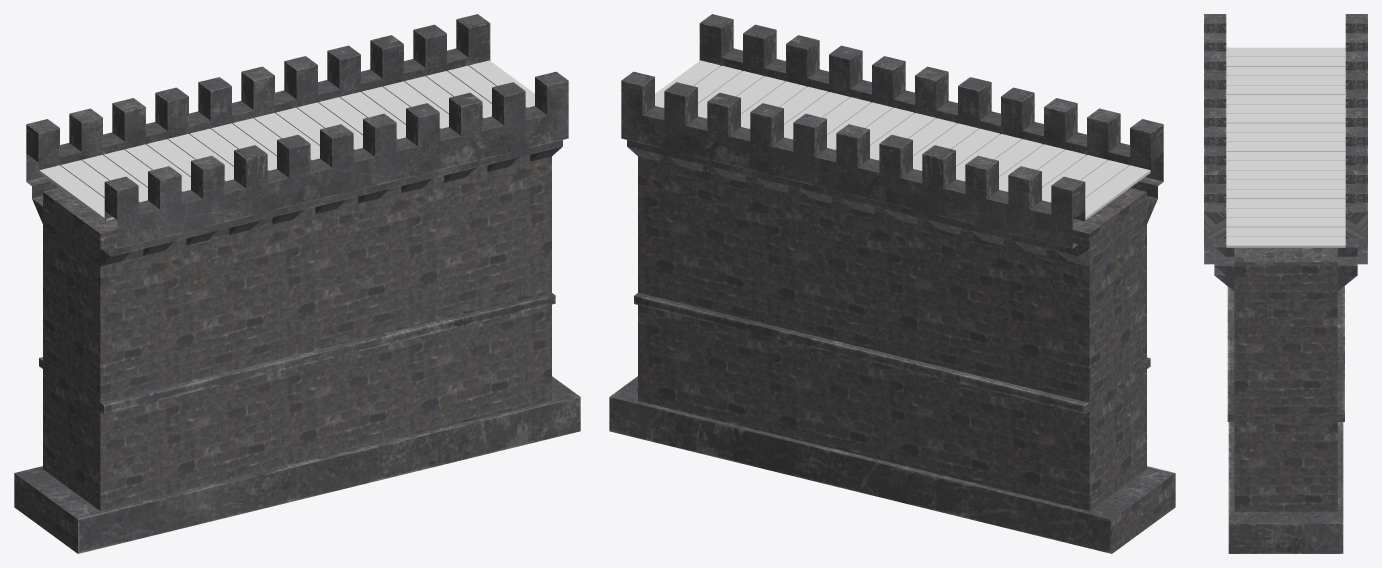
File: wall_wall.fbx
3 renders of one model, left to right at view 1: azimuth 30°, elevation 25°; view 2: azimuth 150°, elevation 25°; view 3: azimuth 270°, elevation 25°, orthographic. The views are drawn at different scales.
Parts seen in each view (by area): view 1: Muralla3.168; view 2: Muralla3.168; view 3: Muralla3.168.
Part boxes in pixels (bbox=[...]): Muralla3.168: bbox=[14, 14, 580, 553]; Muralla3.168: bbox=[609, 14, 1175, 553]; Muralla3.168: bbox=[1204, 14, 1367, 553].
Bounding box in the file's own units: 405 × 283 × 127.
Materials: 3 (2 with a texture image).
